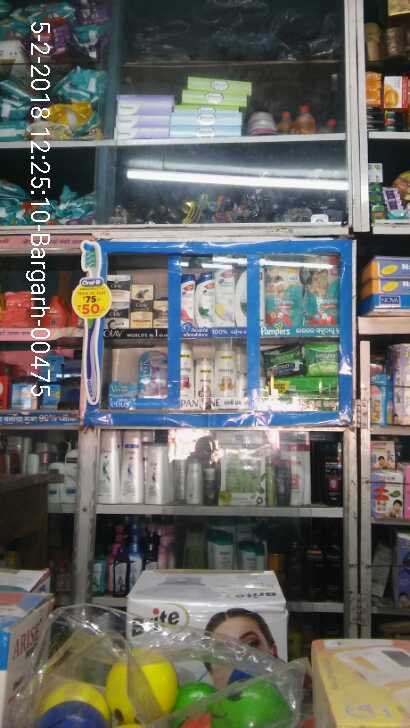venus: (136, 349, 170, 402), (109, 381, 135, 401)
